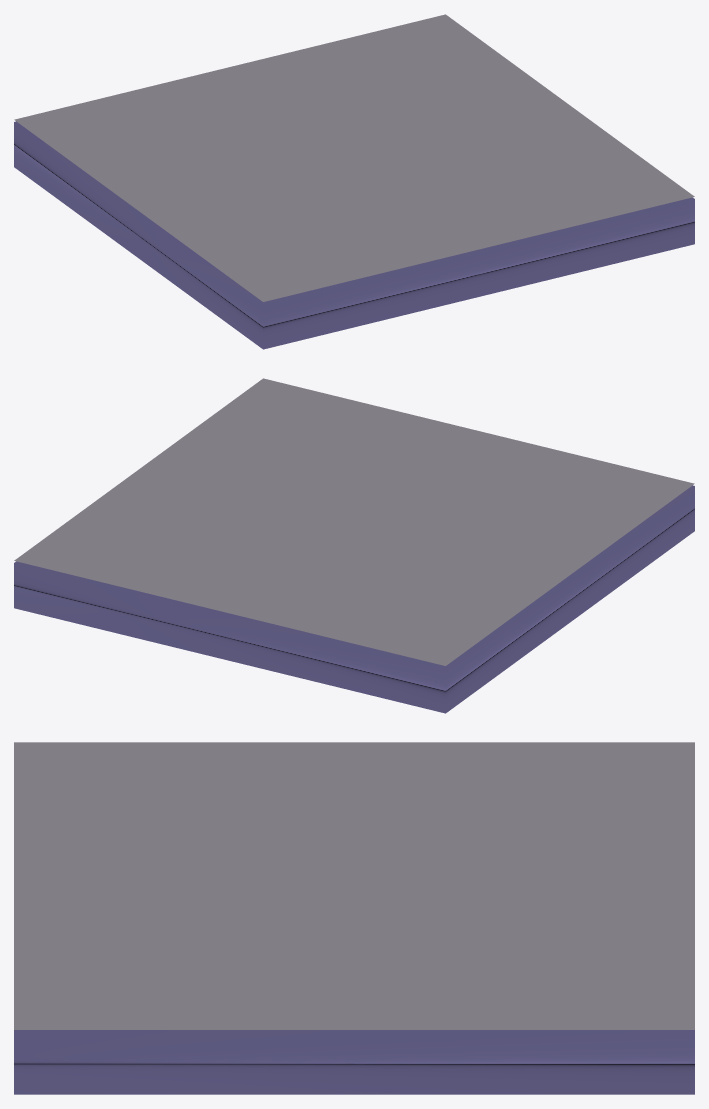
The model's file is tile_ash_b.glb.
3 views of the same model, one above another, from view 1: azimuth 30°, elevation 25°; view 2: azimuth 150°, elevation 25°; view 3: azimuth 270°, elevation 25° (orthographic). The views are drawn at different scales.
Visible parts, largest first — view 1: Tile.001; view 2: Tile.001; view 3: Tile.001.
Part boxes in pixels (left/top/right/bottom): Tile.001: left=14, top=14, right=694, bottom=349; Tile.001: left=14, top=378, right=694, bottom=713; Tile.001: left=14, top=742, right=694, bottom=1094.
Size of the model in its own units: 1 by 0.105 by 1.
